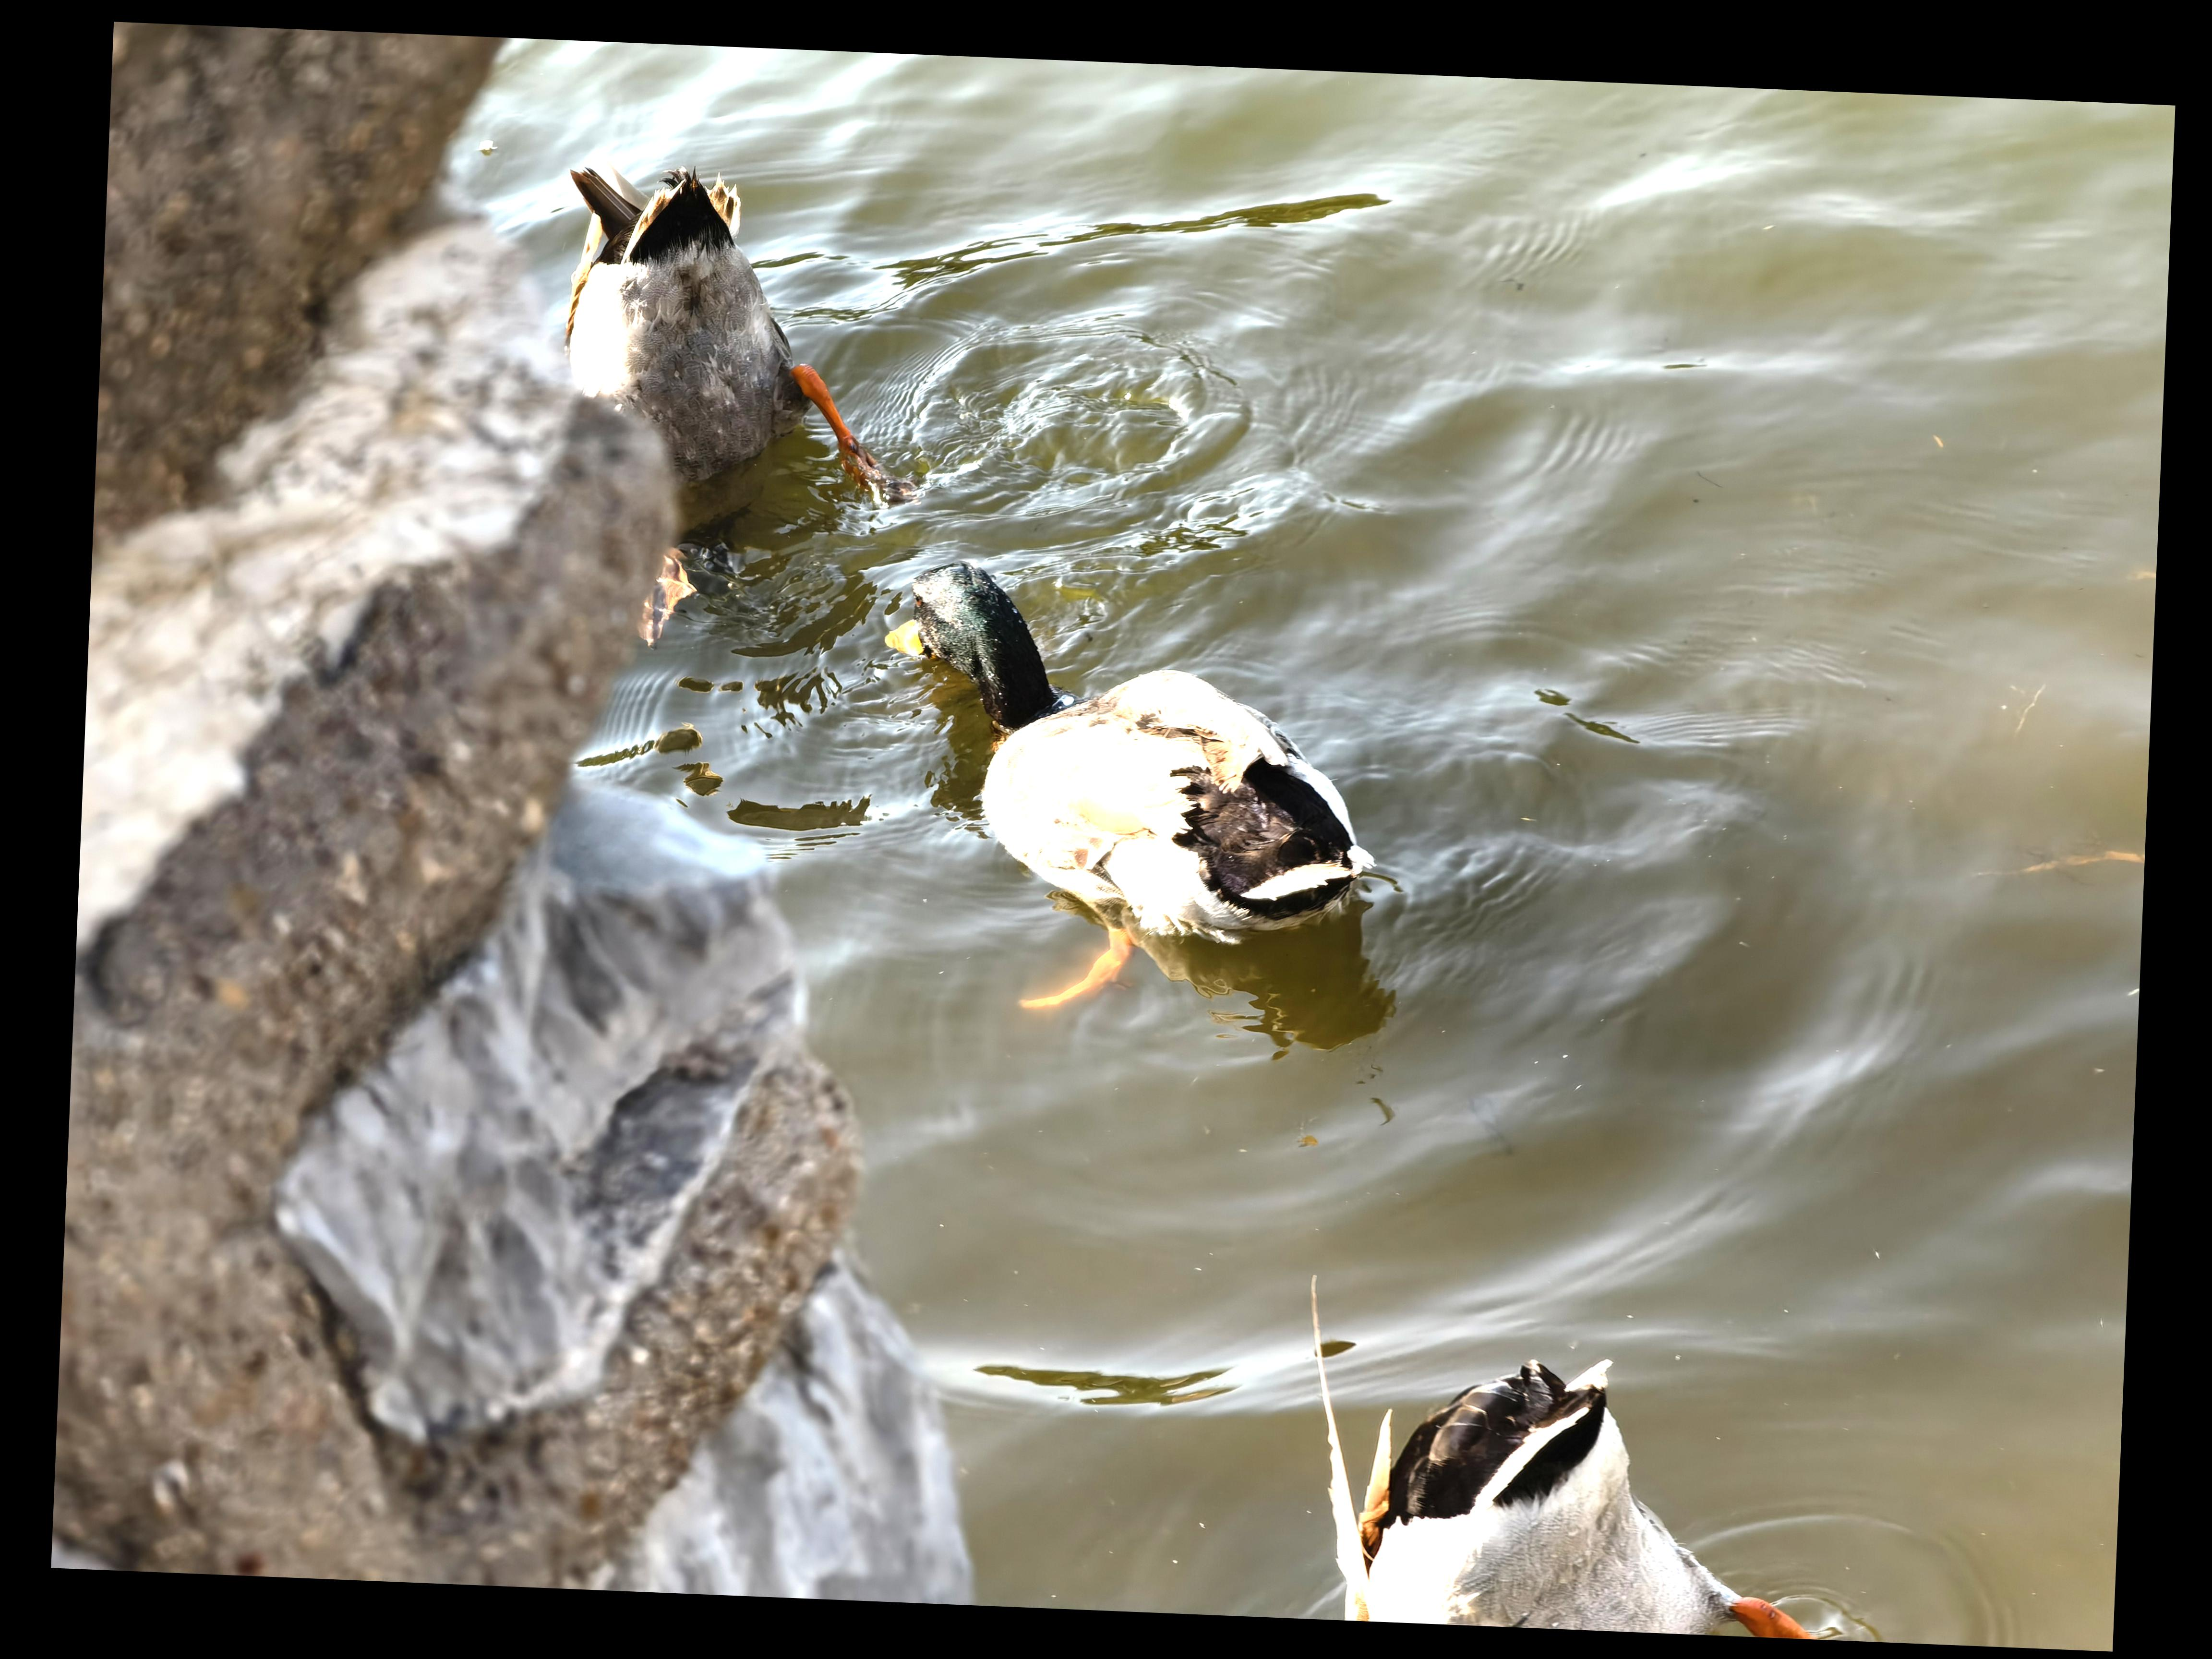duck: (860, 554, 1453, 1012), (1259, 1263, 1904, 1642), (516, 150, 935, 615)
